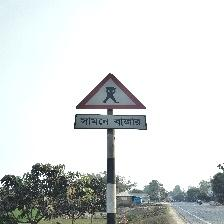Market-in-front: (74, 74, 148, 130)
